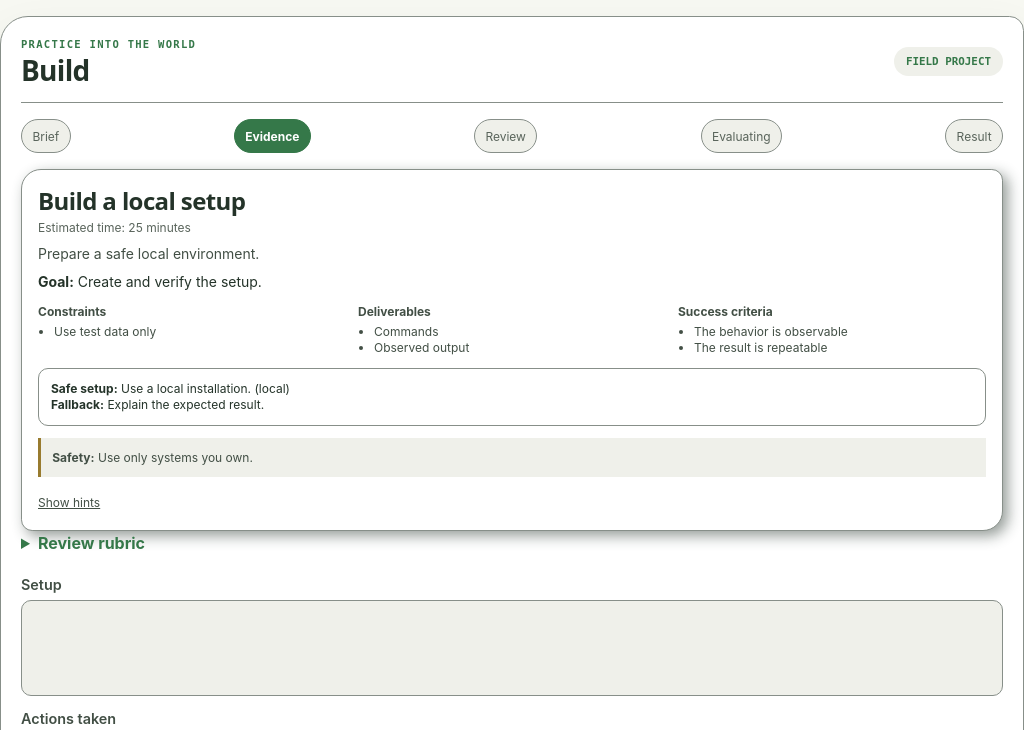
ArtifactPanel › renders the complete Build brief, evidence fields, rubric, safety context and hidden hints
Expected: the heading "Build a local setup" is shown, [38, 184, 245, 217]
Expected: the text "Estimated time: 25 minutes" is shown, [38, 220, 191, 235]
Click the button "Show hints": click(69, 503) [38, 495, 100, 511]
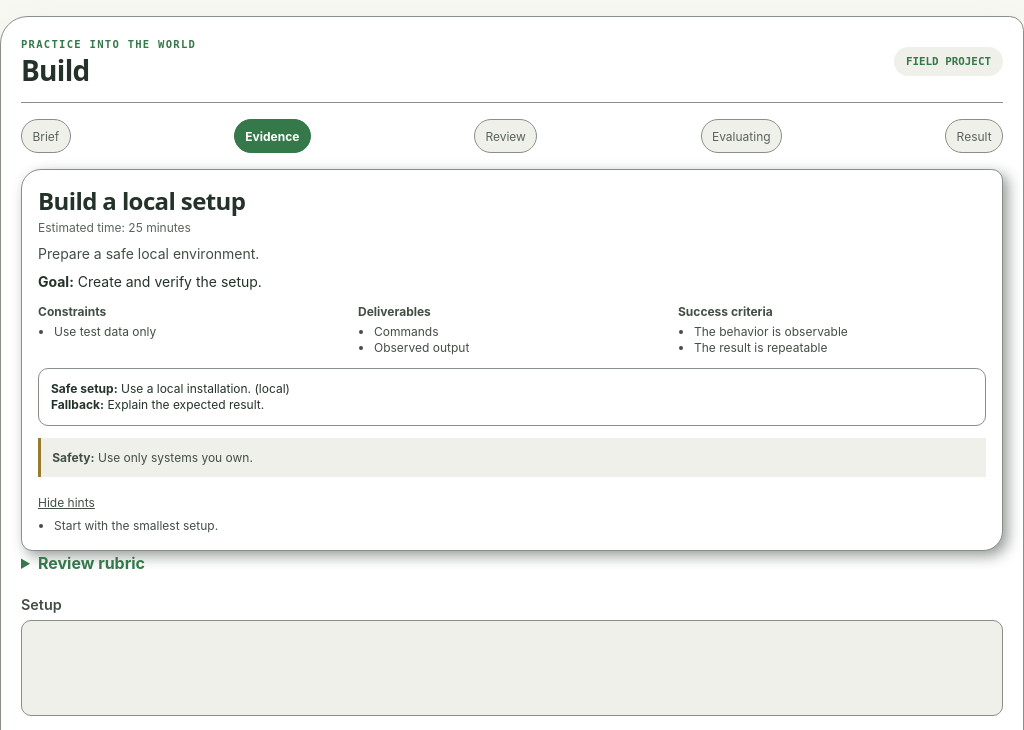
Now the list item "Start with the smallest setup." is shown, box [54, 518, 218, 533]
